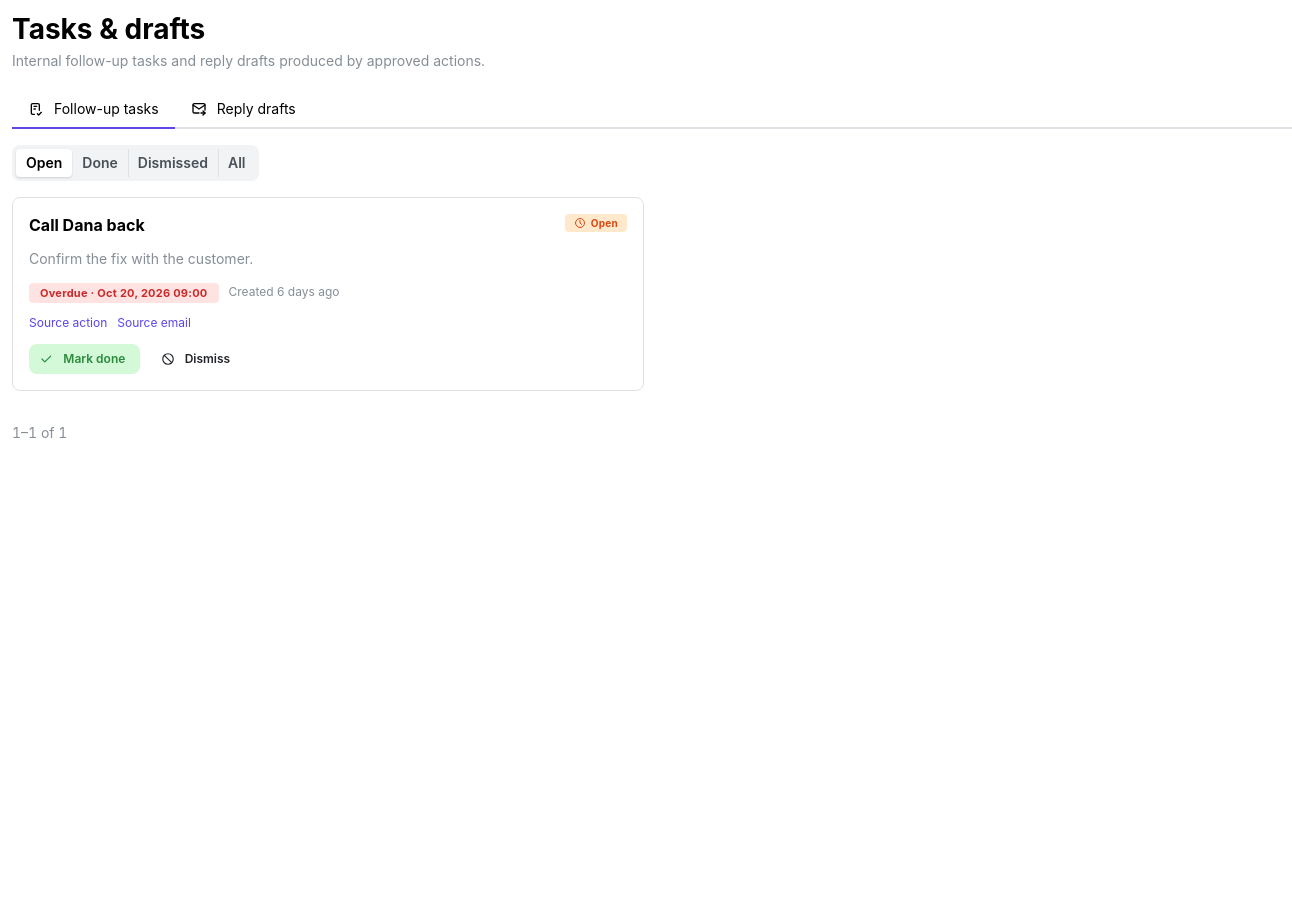
Test case: <TasksPage> follow-up tasks › Dismiss sends PATCH {status: open → dismissed} and toasts
The image size is (1292, 912).
Click the button "Dismiss" at (198, 359), box x1=150 y1=344 x2=245 y2=374
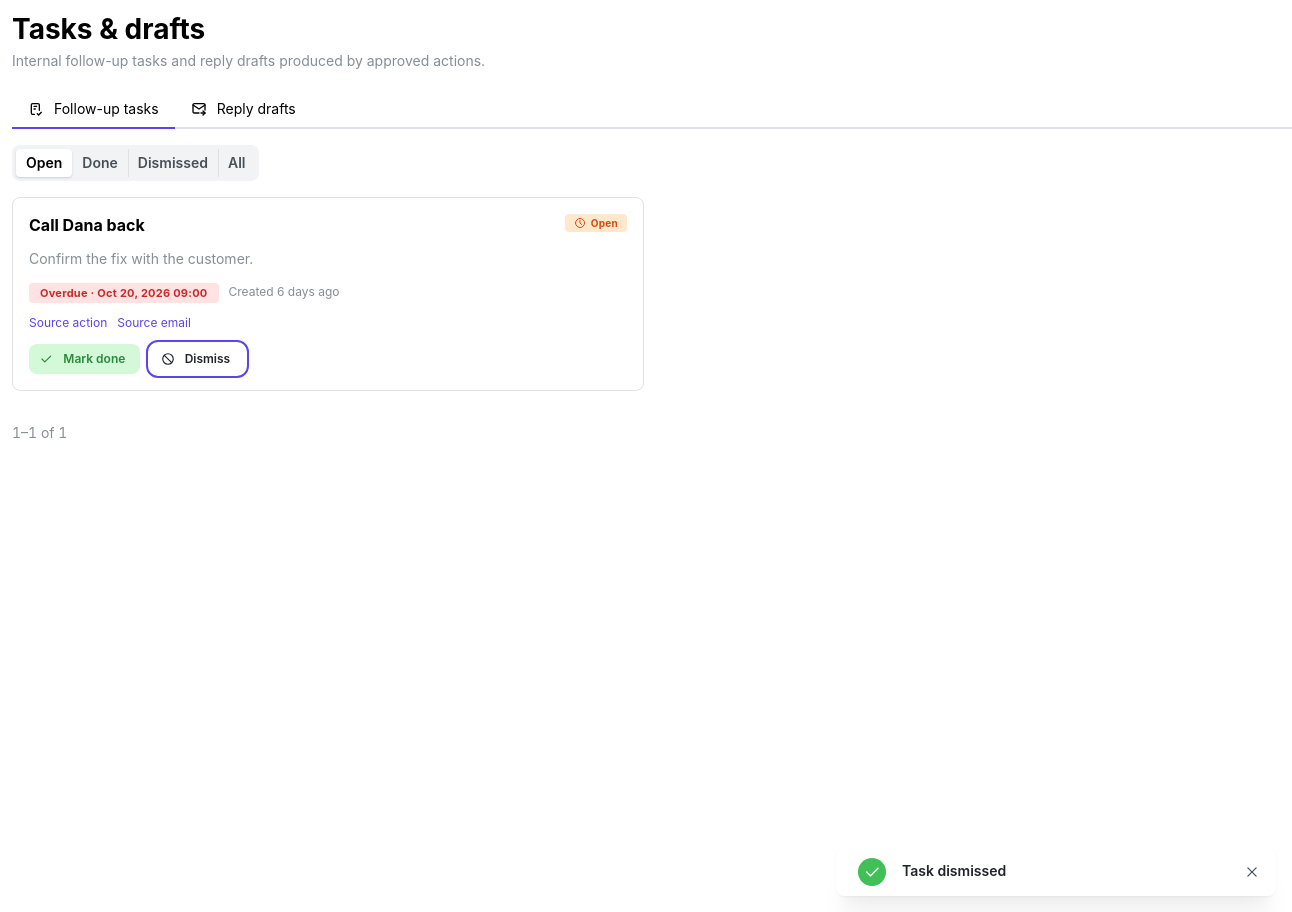
Expected: the text "Task dismissed" is shown, x1=902 y1=862 x2=1006 y2=879
